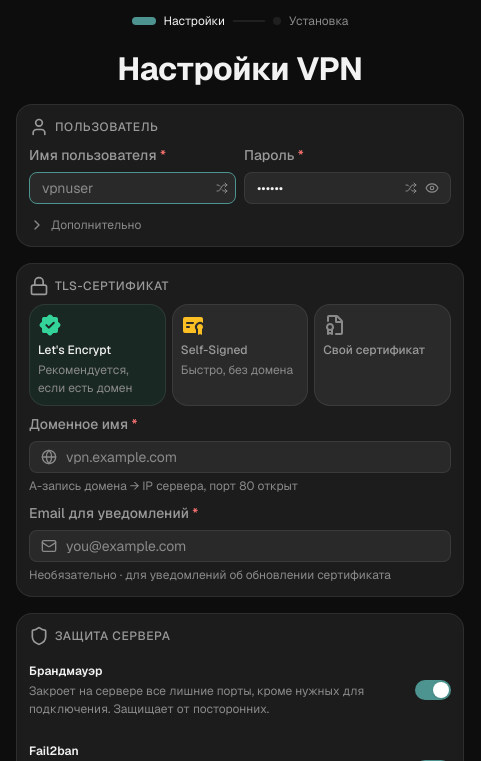
EndpointStep › toggles vpn password visibility via the ActionPasswordInput eye button
This screenshot has width=481, height=761.
Click the button named "Show password" at {"x": 432, "y": 188}, box [421,177,443,199]
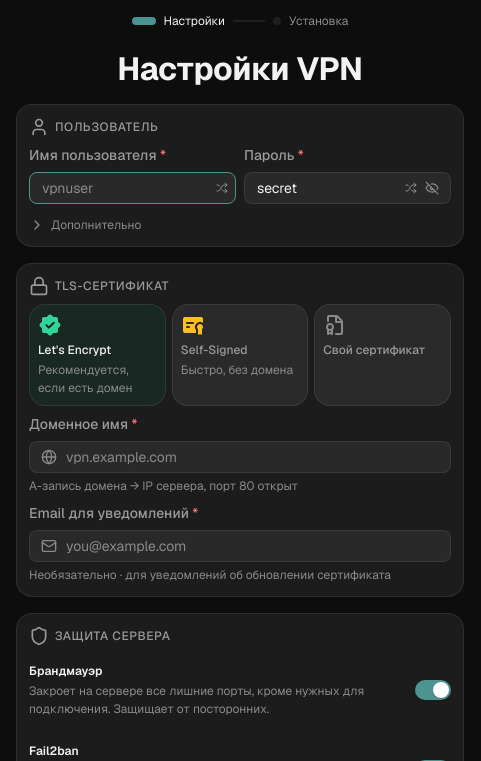
Now the field with placeholder "••••••••" shows its text, box [244,172,451,204]
